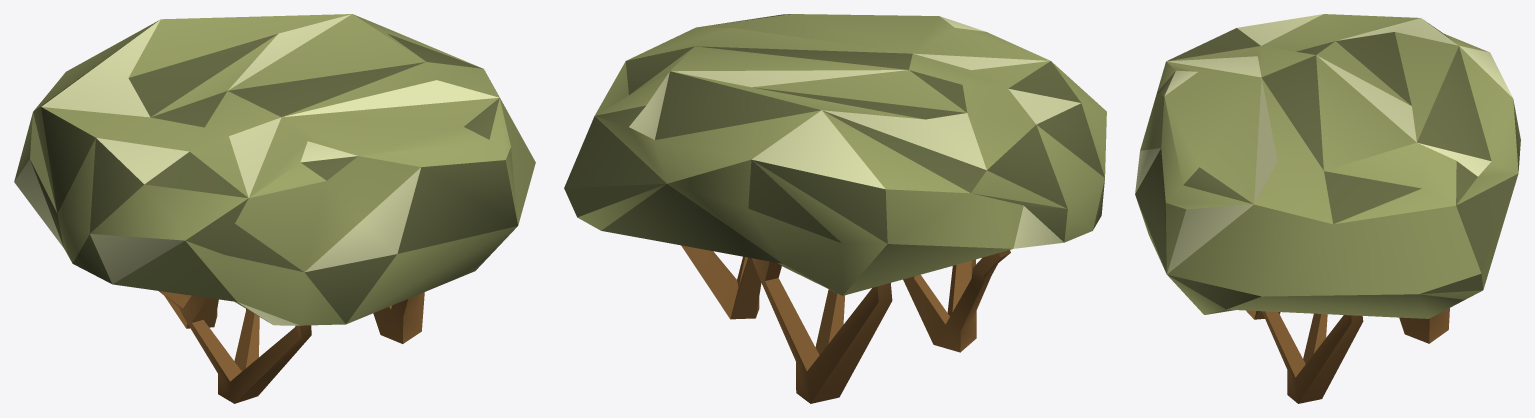
File: Assets.fbx_Busch_Big.fbx
The picture shows the model from 3 angles, left to right: view 1: azimuth 30°, elevation 25°; view 2: azimuth 150°, elevation 25°; view 3: azimuth 270°, elevation 25°; orthographic projection. The views are drawn at different scales.
Parts seen in each view (by area): view 1: Blattwerk.001, Ast.001, Ast.002; view 2: Blattwerk.001, Ast.003, Ast.001, Ast.002; view 3: Blattwerk.001, Ast.002, Ast.003.
Part boxes in pixels (box(x1,y1,x2,y2)): Blattwerk.001: box(14, 14, 535, 325); Ast.001: box(159, 291, 311, 403); Ast.002: box(373, 292, 424, 343); Blattwerk.001: box(564, 14, 1106, 295); Ast.003: box(752, 258, 892, 403); Ast.001: box(903, 250, 1010, 352); Ast.002: box(681, 245, 761, 319); Blattwerk.001: box(1135, 14, 1520, 318); Ast.002: box(1262, 311, 1363, 403); Ast.003: box(1399, 308, 1449, 343).
Bounding box in the file's own units: 178 × 112 × 141.
